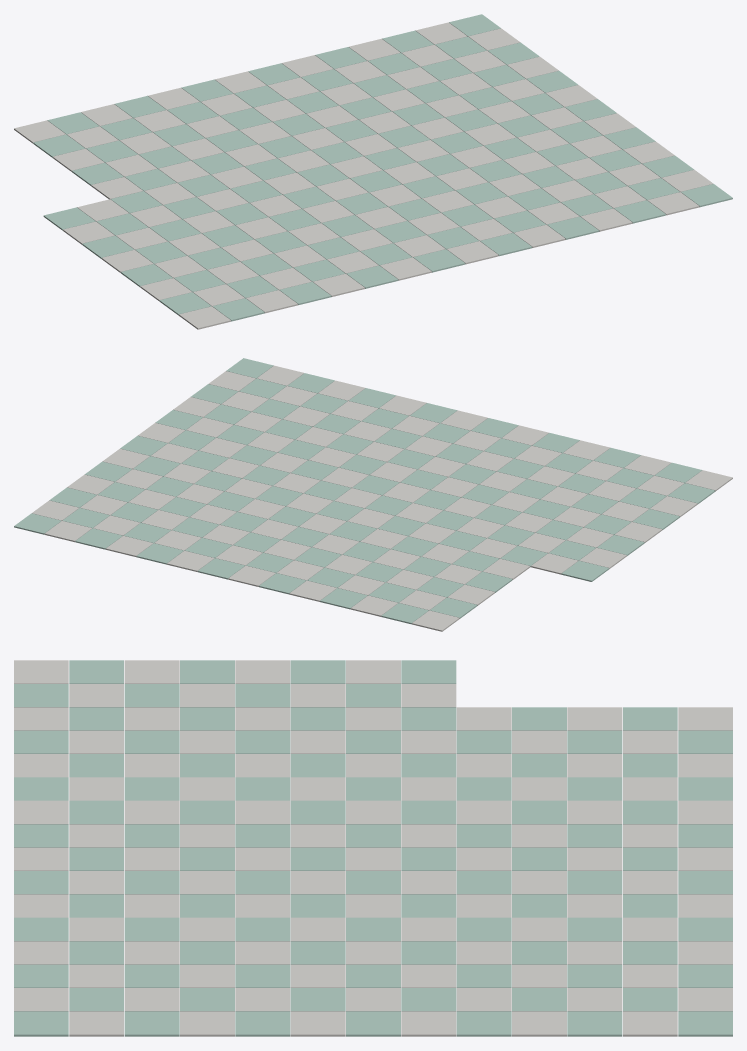
Rendered from home_floor_tiles_s4__mint.glb.
The picture shows the model from 3 angles, top to bottom: view 1: azimuth 30°, elevation 25°; view 2: azimuth 150°, elevation 25°; view 3: azimuth 270°, elevation 25°; orthographic projection. The views are drawn at different scales.
Bounding box in the file's own units: 15.99 × 0.04 × 12.99.
